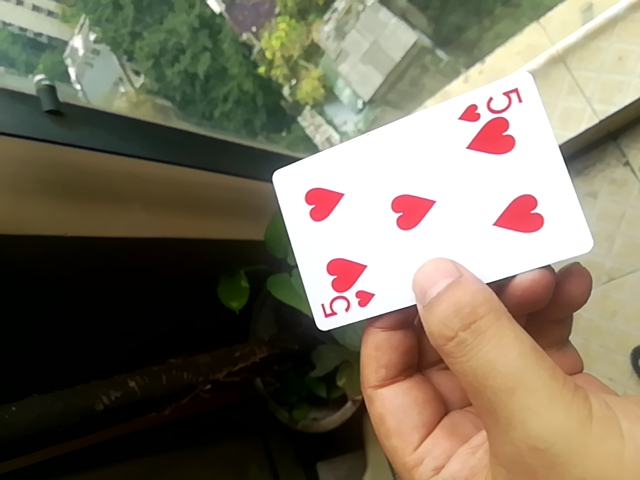hx 5: (268, 70, 591, 338)
